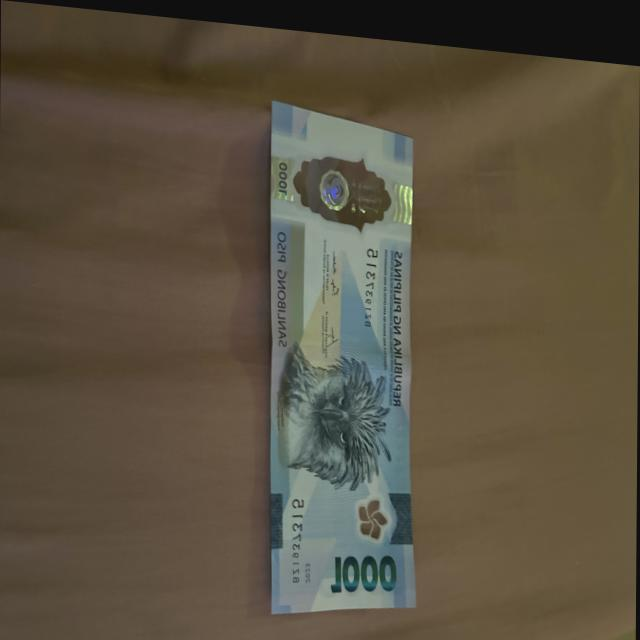clear_window: (299, 143, 395, 224)
eagle: (279, 363, 394, 482)
sampaguita: (358, 486, 388, 532)
